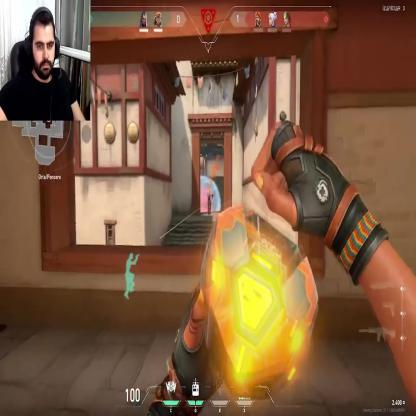enemy: (207, 190, 213, 216)
enemy_head: (209, 191, 210, 194)
